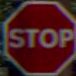Stop: (0, 11, 72, 59)
